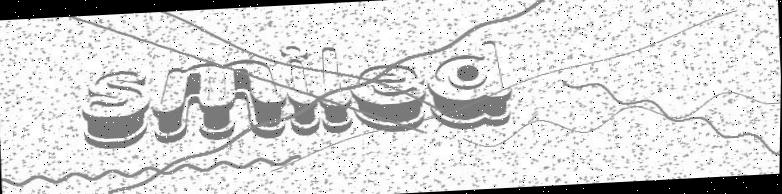d: (425, 38, 516, 131)
e: (348, 62, 430, 136)
i: (276, 42, 323, 139)
l: (316, 45, 355, 135)
m: (148, 57, 289, 147)
s: (79, 69, 154, 153)
